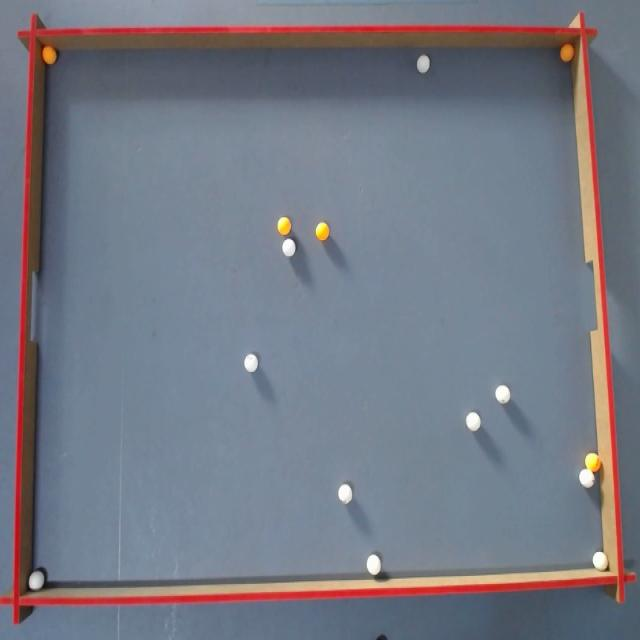orange_ball: (585, 452, 600, 472), (42, 46, 57, 64), (560, 44, 574, 62), (315, 222, 329, 240), (278, 217, 290, 234)
white_ball: (28, 569, 45, 591), (593, 551, 608, 571), (367, 554, 381, 575), (466, 412, 481, 431), (495, 385, 510, 404), (579, 469, 594, 488), (338, 484, 352, 504), (244, 353, 258, 372), (282, 238, 296, 256), (416, 55, 429, 73)
